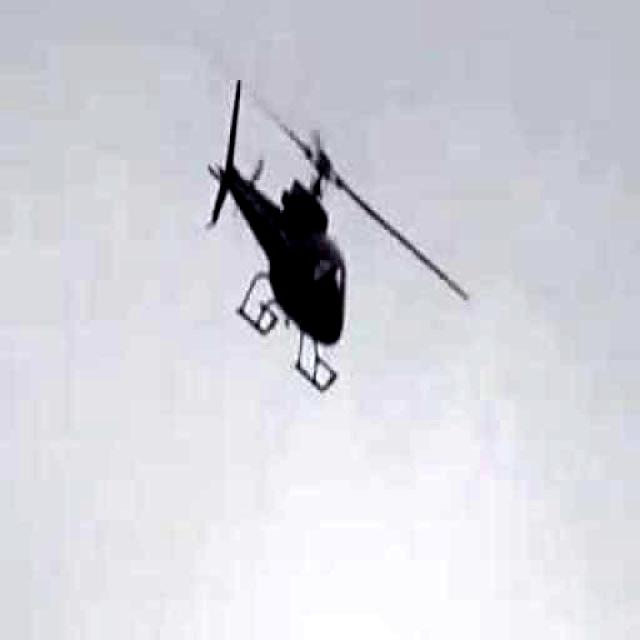drone: (102, 14, 445, 440)
